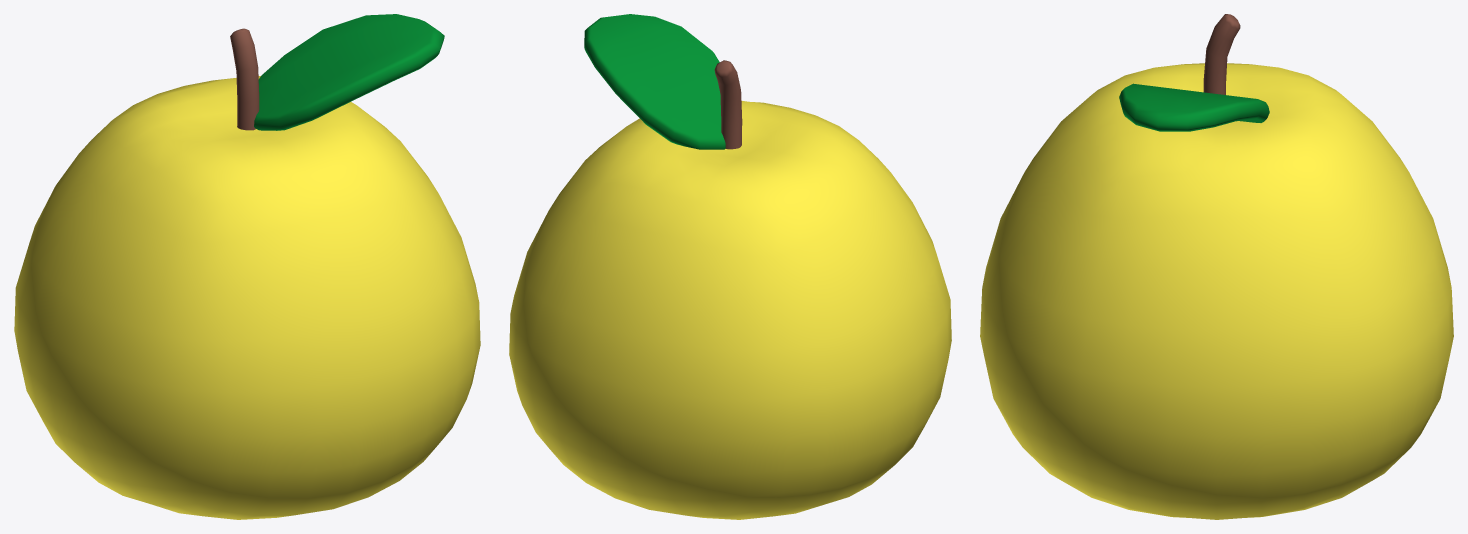
Rendered from Store_10_Apple_Sigh_2.glb.
3 renders of one model, left to right at view 1: azimuth 30°, elevation 25°; view 2: azimuth 150°, elevation 25°; view 3: azimuth 270°, elevation 25°, orthographic. The views are drawn at different scales.
Visible parts, largest first — view 1: Store_10_Apple_Sigh_2; view 2: Store_10_Apple_Sigh_2; view 3: Store_10_Apple_Sigh_2.
Part boxes in pixels (box(x1,y1,x2,y2)): Store_10_Apple_Sigh_2: box(14, 14, 480, 519); Store_10_Apple_Sigh_2: box(509, 14, 951, 519); Store_10_Apple_Sigh_2: box(980, 14, 1453, 519).
Bounding box in the file's own units: 3.05 × 3.21 × 3.05.
1 material, 1 textured.
